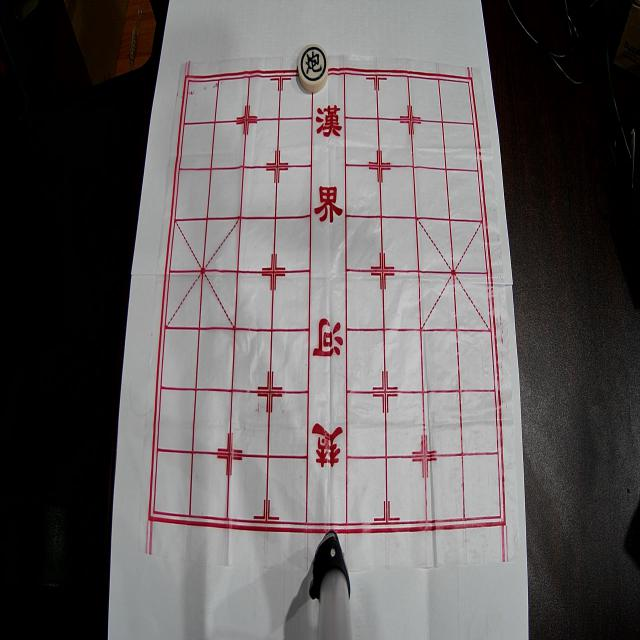black-cannon: (298, 44, 328, 92)
